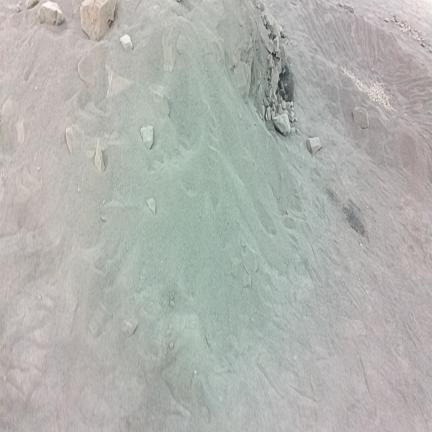Rock: (80, 0, 116, 41), (78, 45, 106, 86), (0, 98, 18, 153), (89, 305, 111, 337), (234, 62, 251, 102), (39, 2, 64, 25), (162, 27, 174, 72), (66, 125, 83, 155), (242, 245, 258, 274), (274, 114, 290, 135), (353, 107, 368, 128), (95, 140, 104, 172), (141, 126, 153, 148), (307, 137, 321, 154), (120, 34, 133, 52), (122, 320, 137, 335), (263, 13, 274, 32), (16, 120, 24, 144), (271, 18, 280, 39), (271, 68, 279, 89), (242, 269, 251, 287), (280, 44, 288, 64), (147, 198, 155, 214), (26, 0, 39, 9), (266, 39, 274, 53), (288, 108, 295, 123), (275, 58, 282, 73), (256, 0, 264, 12), (269, 54, 275, 68), (279, 26, 286, 38), (259, 105, 265, 119), (274, 37, 279, 53), (263, 97, 270, 108), (169, 295, 175, 307), (344, 5, 353, 13), (15, 2, 22, 12), (266, 107, 271, 120), (277, 104, 283, 114), (275, 49, 281, 59), (271, 110, 276, 120), (287, 101, 293, 109), (277, 92, 281, 104), (281, 100, 286, 109), (392, 15, 398, 22), (169, 342, 174, 350), (428, 46, 432, 53), (296, 128, 300, 135), (338, 2, 343, 7), (283, 110, 288, 115), (399, 22, 404, 27), (291, 127, 295, 133), (259, 113, 263, 119), (294, 116, 297, 122), (385, 18, 388, 22), (177, 0, 181, 2)
